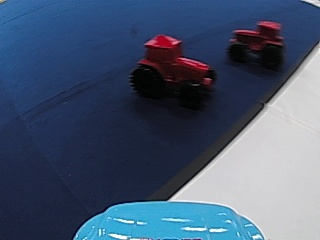tractor: (129, 31, 218, 108), (226, 17, 285, 69)
